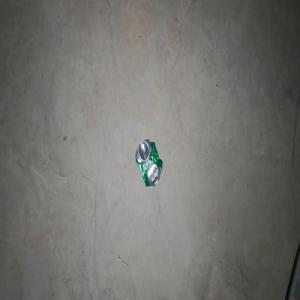SodaCan: (135, 138, 162, 186)
